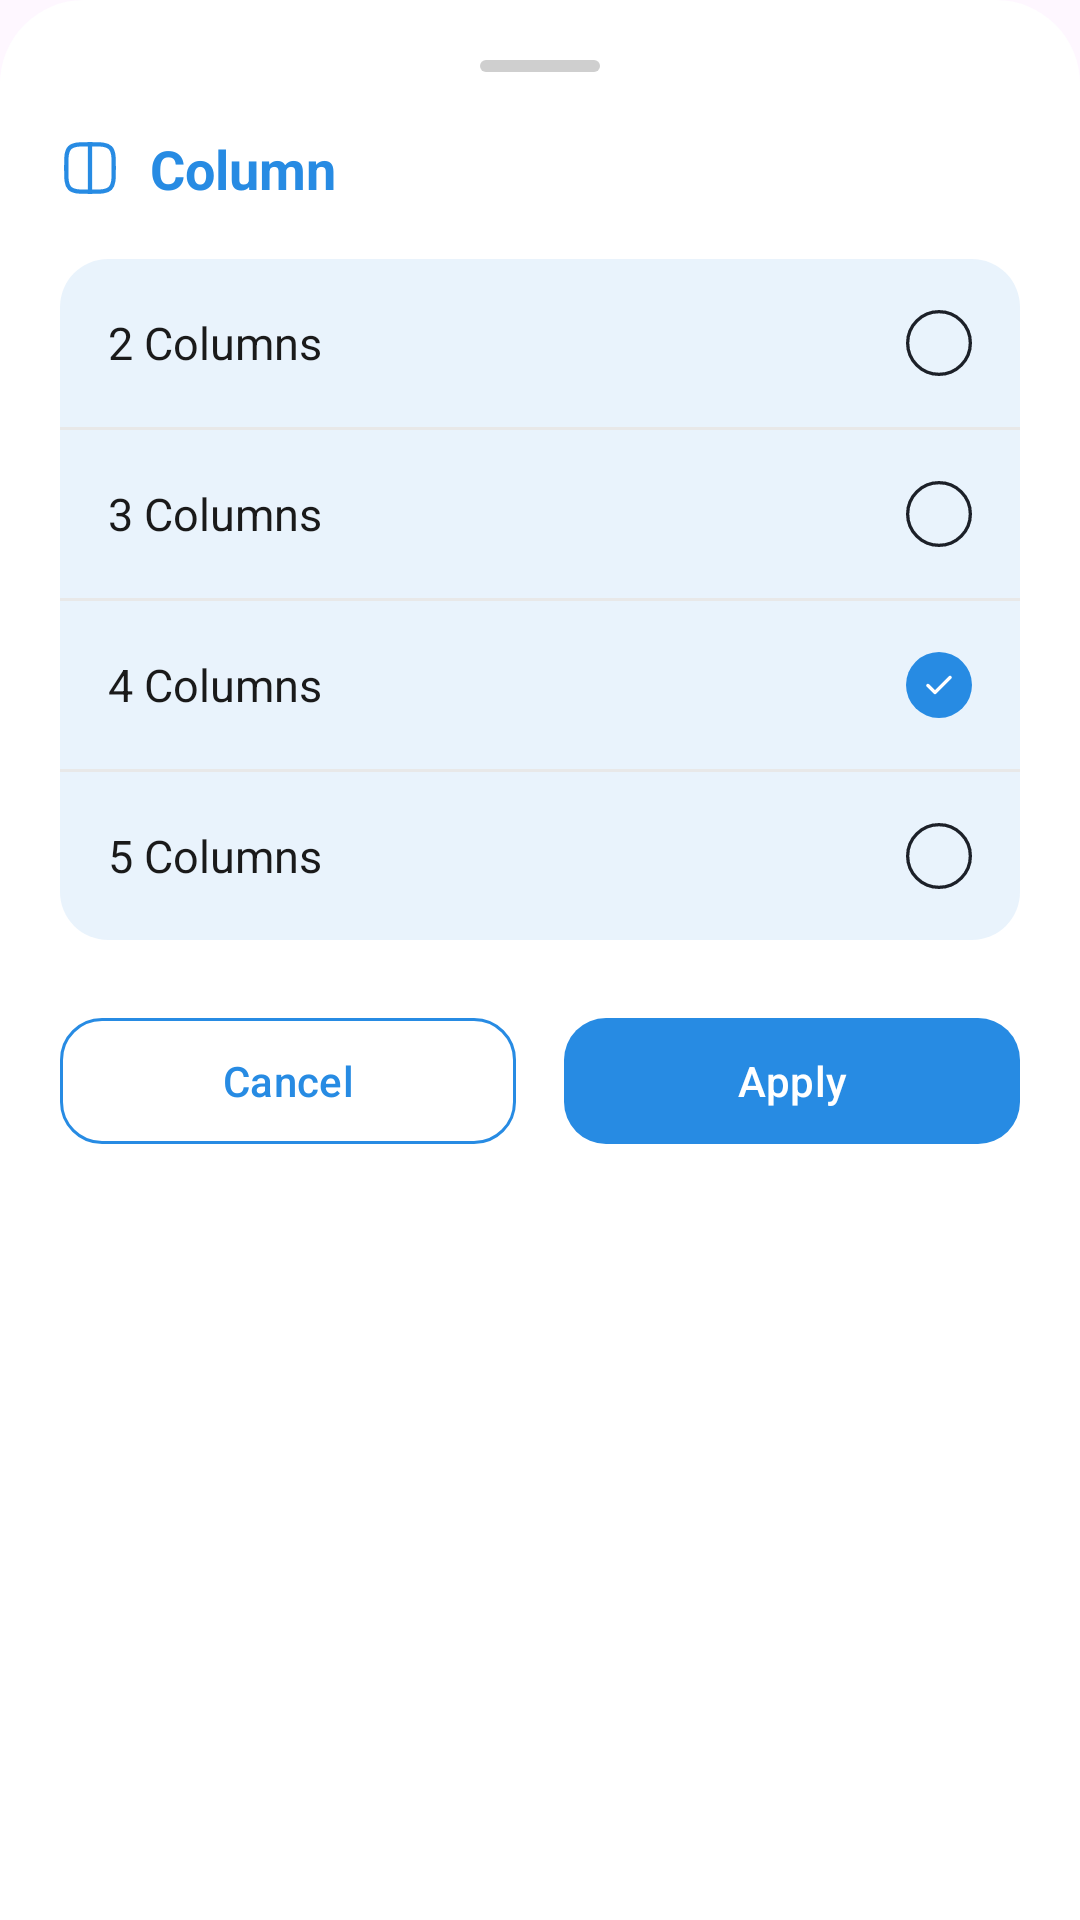

Where to tap for icons on this 1080px×1920px app screen, as (x=x, y=y):
check circle: (x=939, y=685)
